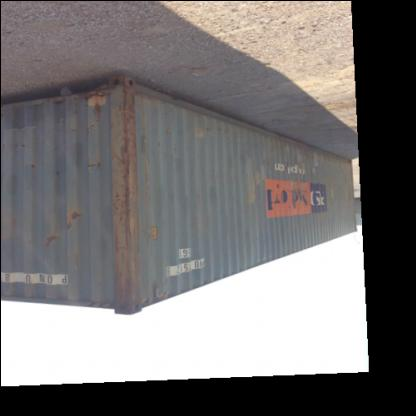Damage: (109, 93, 138, 310), (60, 204, 84, 235), (186, 127, 235, 142), (278, 184, 306, 206), (86, 92, 104, 122), (39, 228, 59, 252), (45, 97, 73, 111), (81, 162, 98, 174)
